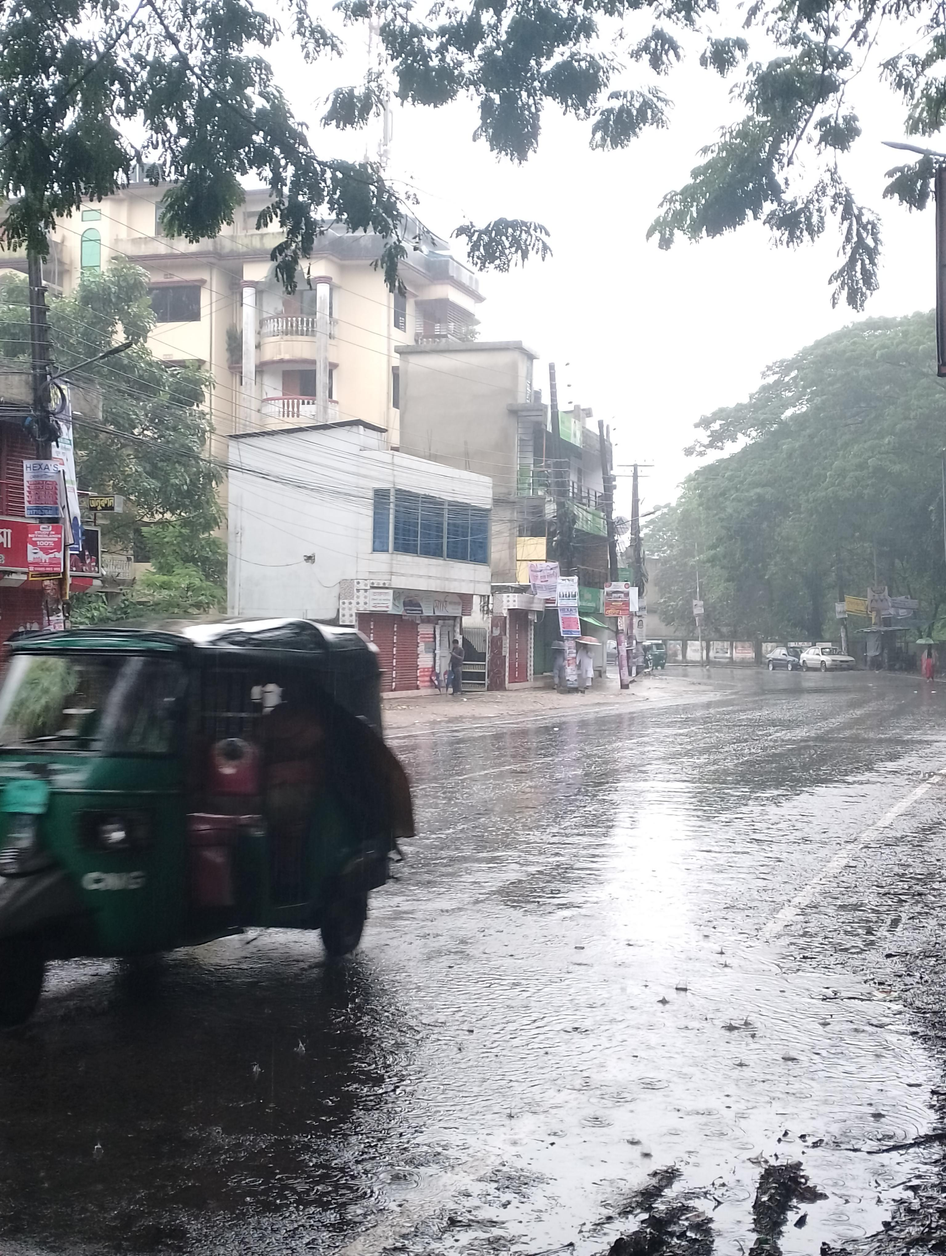Car: (790, 634, 864, 678)
